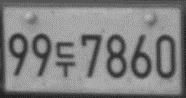0: (155, 34, 177, 79)
6: (129, 33, 152, 78)
7: (80, 33, 103, 79)
8: (105, 33, 127, 78)
9: (30, 33, 52, 77), (8, 31, 29, 76)
두: (55, 40, 76, 77)
